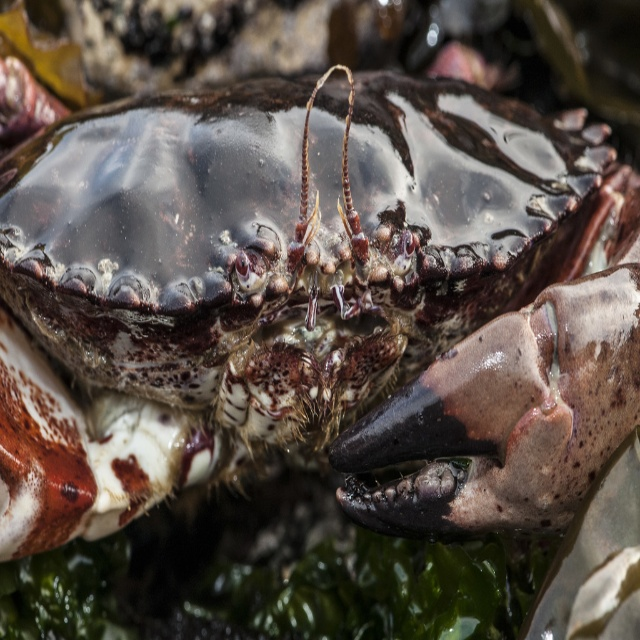Crab: (0, 63, 640, 538), (521, 422, 640, 639)
